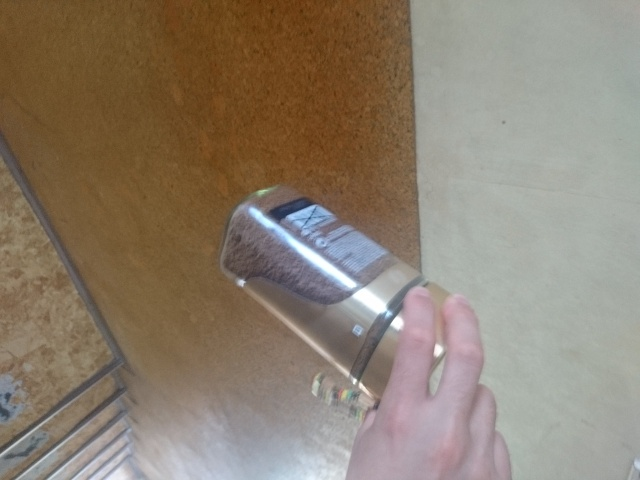Nescafe Gold 225g: (213, 181, 475, 411)
